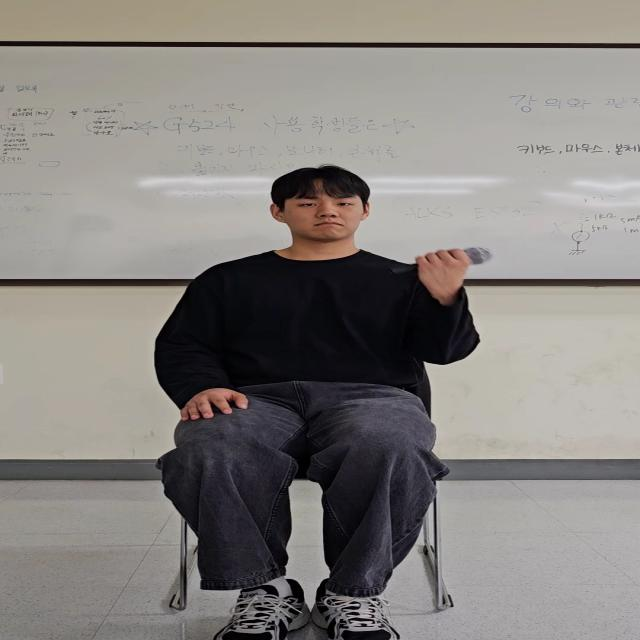curl: (356, 219, 535, 368)
